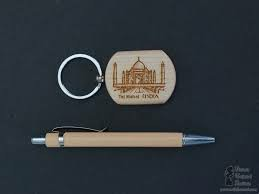pen: (19, 125, 226, 150)
